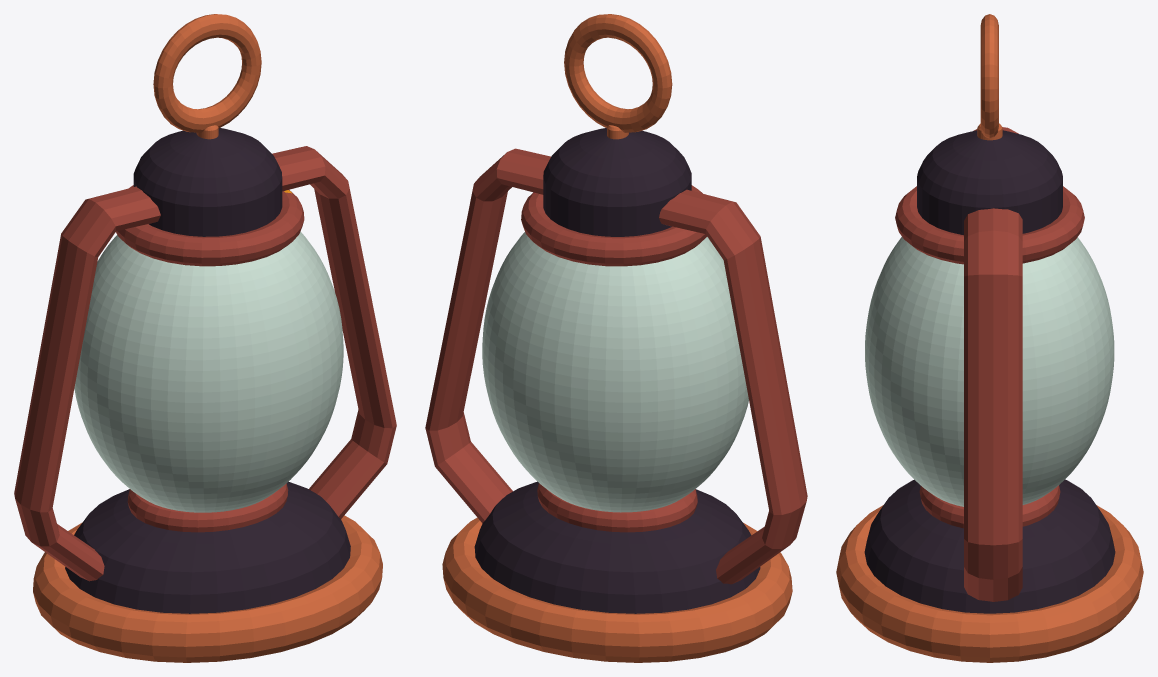
The model's file is Lampião PRONTO.fbx.
3 renders of one model, left to right at view 1: azimuth 30°, elevation 25°; view 2: azimuth 150°, elevation 25°; view 3: azimuth 270°, elevation 25°, orthographic.
Visible parts, largest first — view 1: Lampião; view 2: Lampião; view 3: Lampião.
Part boxes in pixels (x1=…): Lampião: x1=14, y1=14, x2=396, y2=662; Lampião: x1=425, y1=14, x2=807, y2=662; Lampião: x1=836, y1=14, x2=1143, y2=662.
Size of the model in its own units: 43.62 by 66.19 by 32.05.
